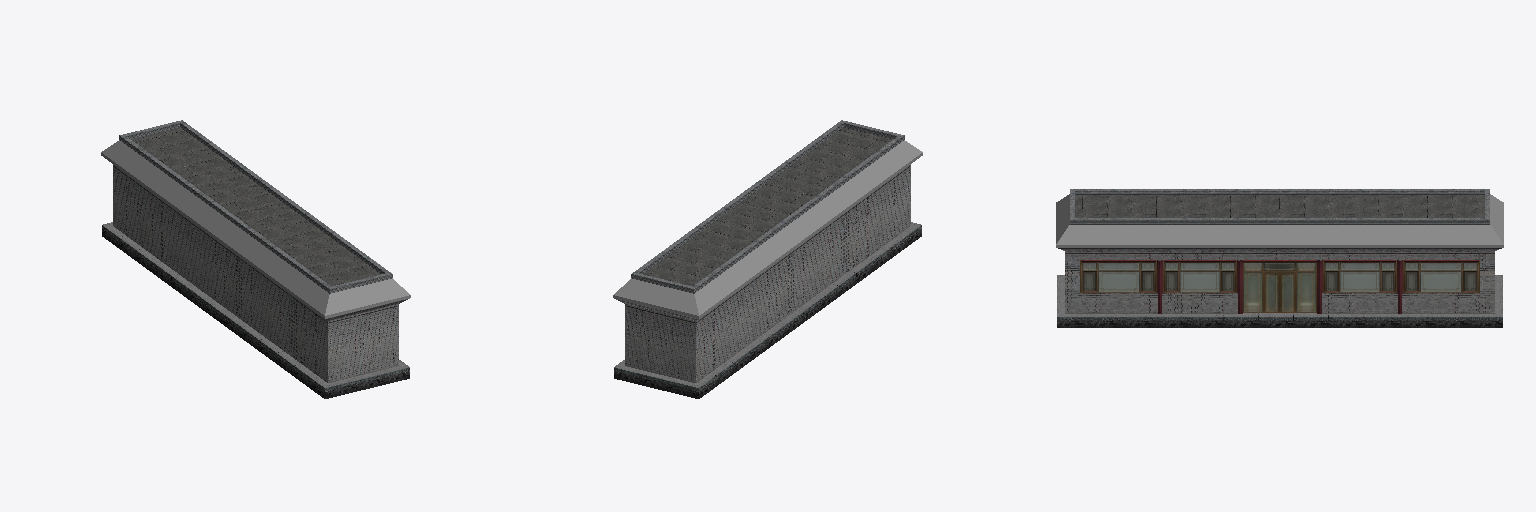
3 views of the same model, side by side, from view 1: azimuth 30°, elevation 25°; view 2: azimuth 150°, elevation 25°; view 3: azimuth 270°, elevation 25° (orthographic).
Visible parts, largest first — view 1: Material__3214; view 2: Material__3214; view 3: Material__3214.
Boxes of the visible parts, box(x1,y1,x2,y2) form: Material__3214: box(101, 120, 410, 398); Material__3214: box(613, 120, 922, 398); Material__3214: box(1056, 189, 1503, 327).
Bounding box in the file's own units: 4.04 × 4.6 × 18.16.
7 materials, 6 textured.